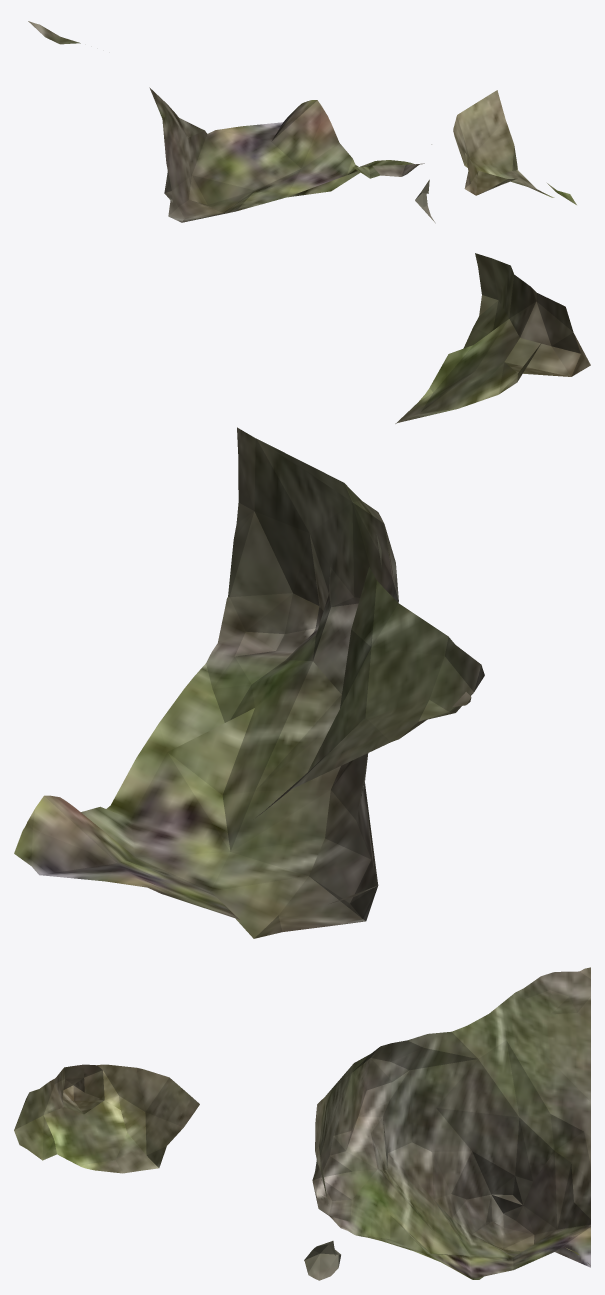
The picture shows the model from 3 angles, top to bottom: view 1: azimuth 30°, elevation 25°; view 2: azimuth 150°, elevation 25°; view 3: azimuth 270°, elevation 25°; orthographic projection. The views are drawn at different scales.
Size of the model in its own units: 1.23 by 0.8619 by 2.19.
Materials: 1 (1 with a texture image).
